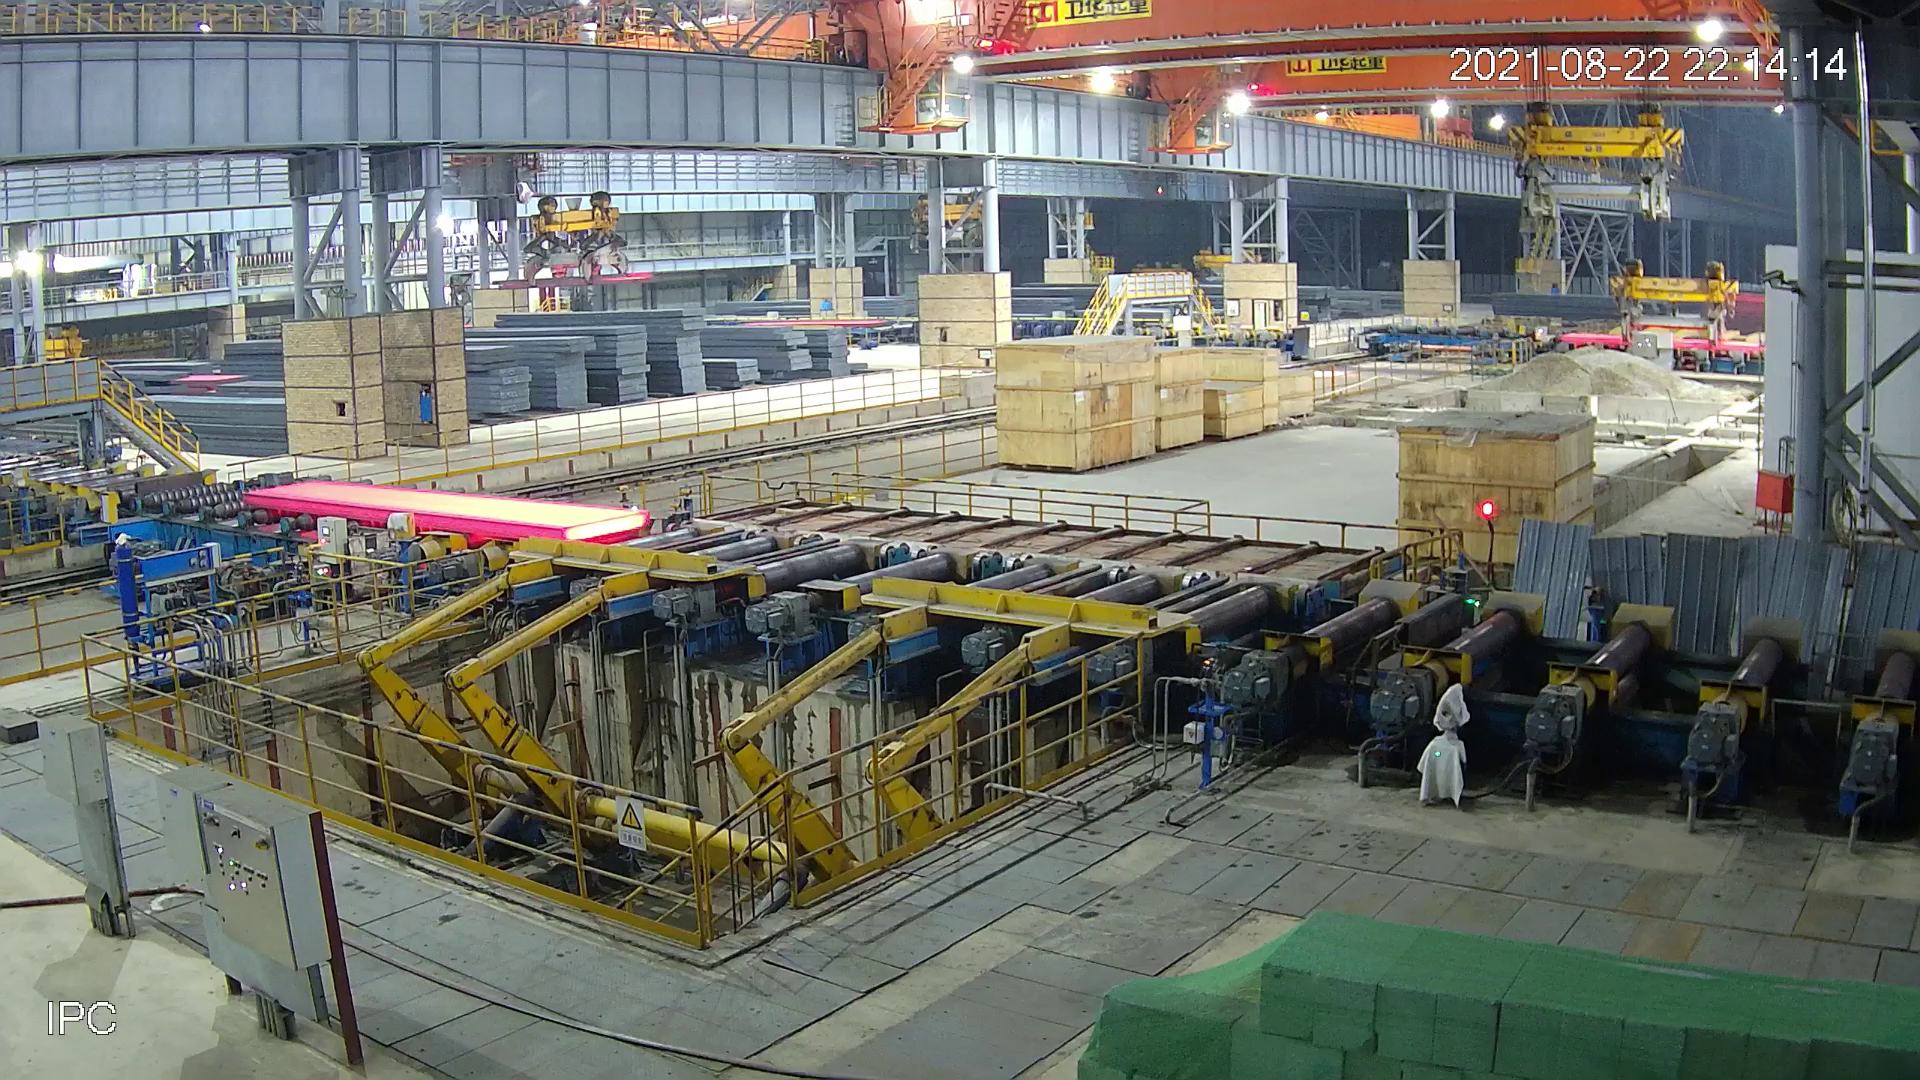slab: (243, 479, 650, 542)
